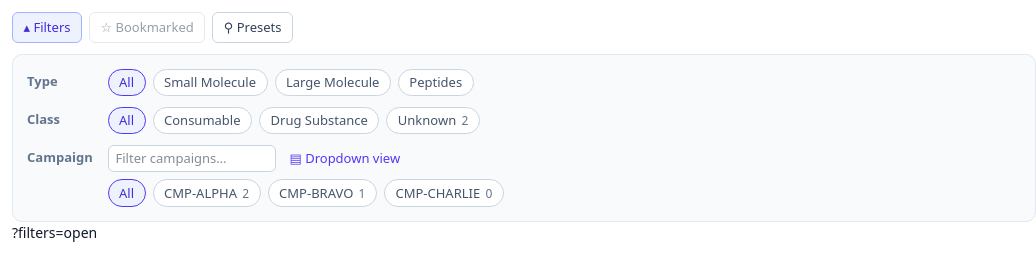
it: F16-FR-02: campaign pills show live counts, filter by the search box and scroll in at most three rows
Check: the button "CMP-ALPHA2" is shown, box [152,179,261,207]
Check: the button "CMP-CHARLIE0" is shown, box [384,179,504,207]
Type "brav" into the search field labelled "Filter campaigns".
click(192, 158); type("brav")  # box [108,145,276,172]
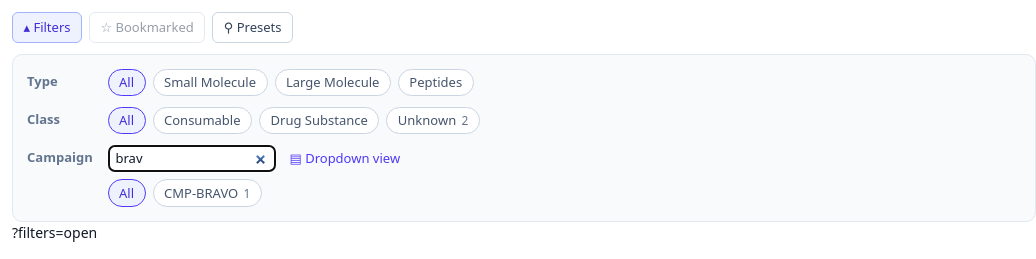
Check: the button "CMP-ALPHA" is gone
Click the button "CMP-BRAVO1".
click(207, 193)  # box [152,179,262,207]
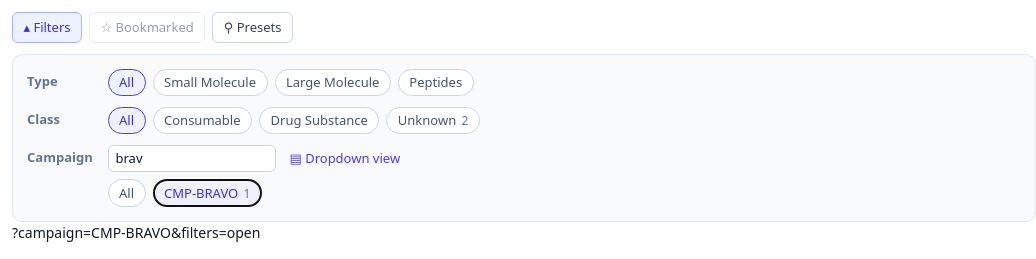
Check: the text with test id "url" shows "campaign=CMP-BRAVO", box [12,223,260,242]
